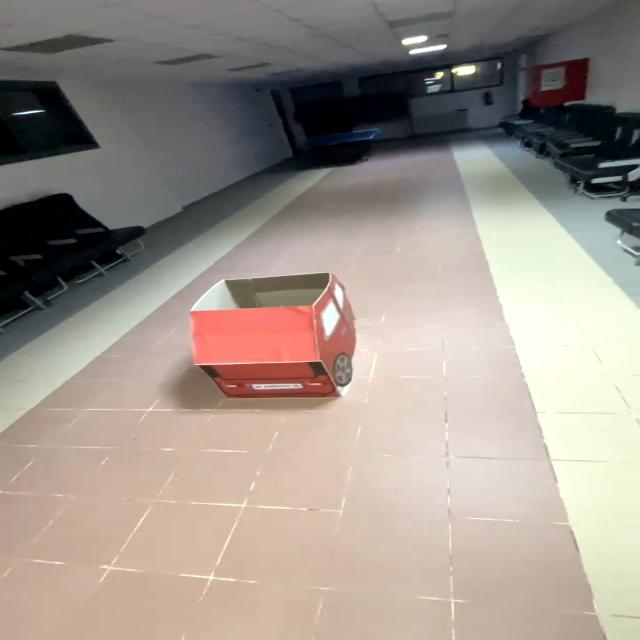red_car: (151, 242, 405, 445)
